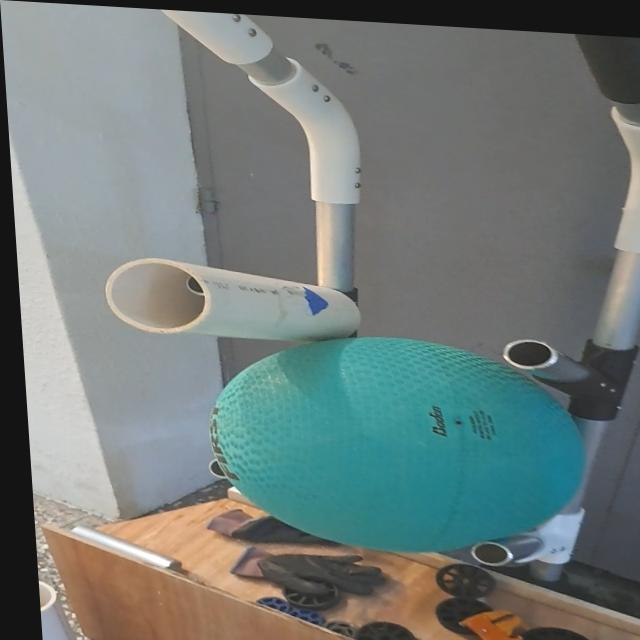ALGAE: (196, 319, 599, 564)
CORAL: (87, 253, 376, 351)
